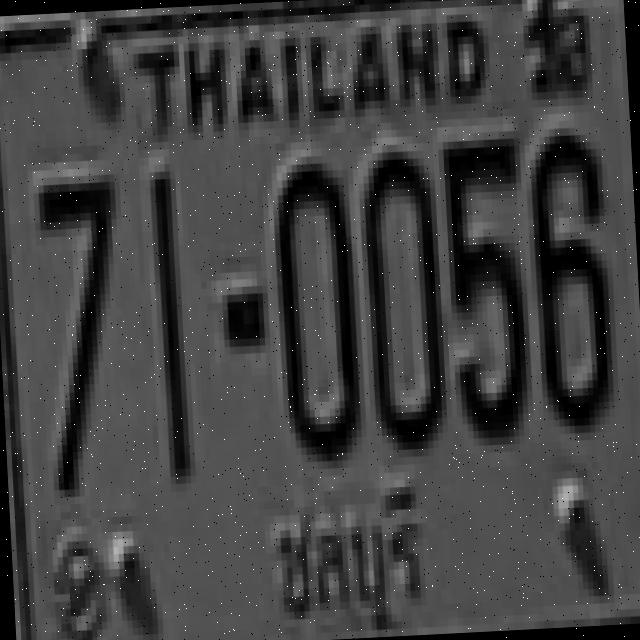0: (268, 155, 359, 456), (358, 147, 443, 448)
1: (150, 172, 190, 469), (149, 172, 189, 448)
5: (438, 131, 530, 440)
6: (524, 126, 610, 428)
7: (32, 174, 124, 483), (32, 174, 122, 438), (32, 175, 120, 386)
Chonburi: (255, 475, 445, 640)
